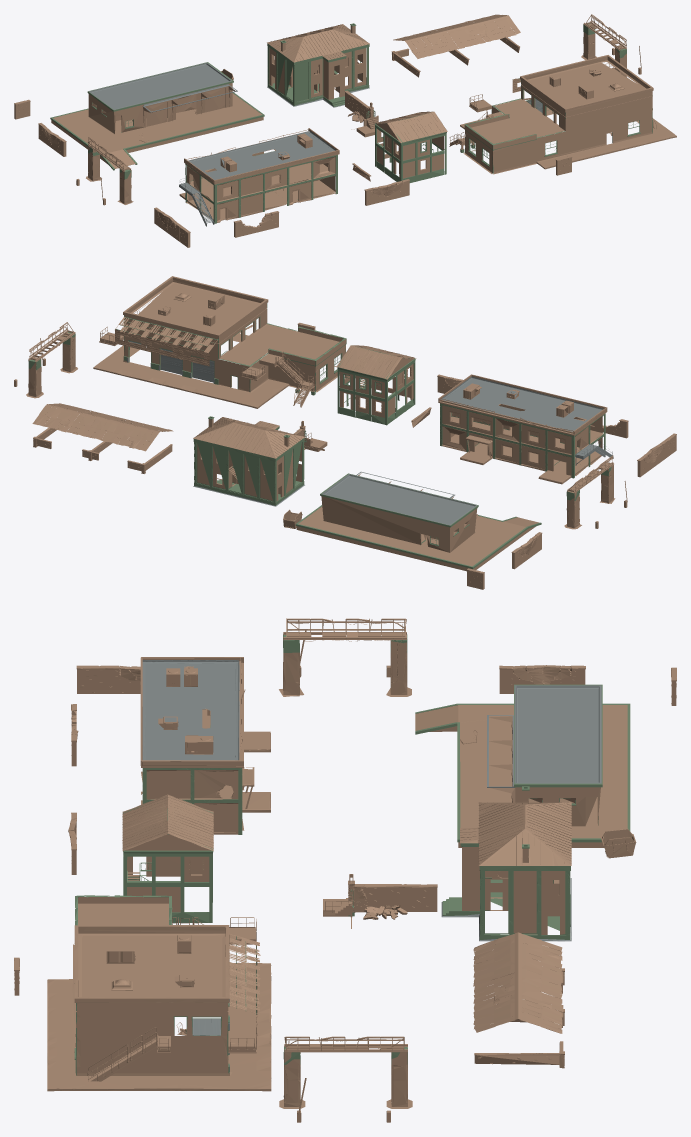
File: radtown_1-mid.glb
3 views of the same model, one above another, from view 1: azimuth 30°, elevation 25°; view 2: azimuth 150°, elevation 25°; view 3: azimuth 270°, elevation 25° (orthographic). The views are drawn at different scales.
Visible parts, largest first — view 1: road_barrier_single, workers_house_a_LOD0, master_house_LOD0; view 2: road_barrier_single, workers_house_a_LOD0, master_house_LOD0; view 3: road_barrier_single, master_house_LOD0, workers_house_a_LOD0.
Boxes of the visible parts, left/top/right/bottom form: road_barrier_single: left=14, top=14, right=676, bottom=247; workers_house_a_LOD0: left=50, top=23, right=652, bottom=223; master_house_LOD0: left=89, top=62, right=552, bottom=226; road_barrier_single: left=14, top=276, right=676, bottom=589; workers_house_a_LOD0: left=28, top=303, right=611, bottom=568; master_house_LOD0: left=127, top=341, right=613, bottom=525; road_barrier_single: left=14, top=618, right=676, bottom=1122; master_house_LOD0: left=142, top=660, right=601, bottom=1071; workers_house_a_LOD0: left=74, top=634, right=630, bottom=1075.
Size of the model in its own units: 111 by 11.53 by 69.62.
